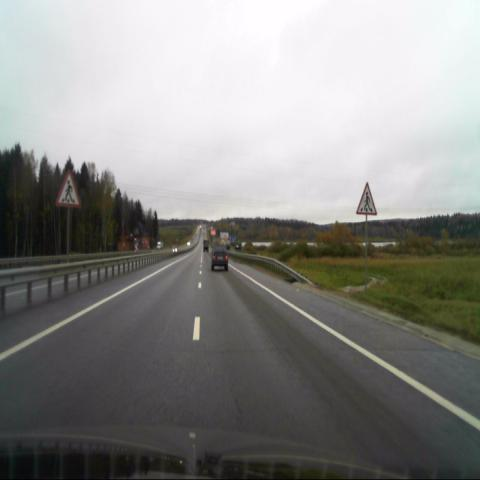1_22: (55, 169, 80, 207), (356, 182, 377, 215)
